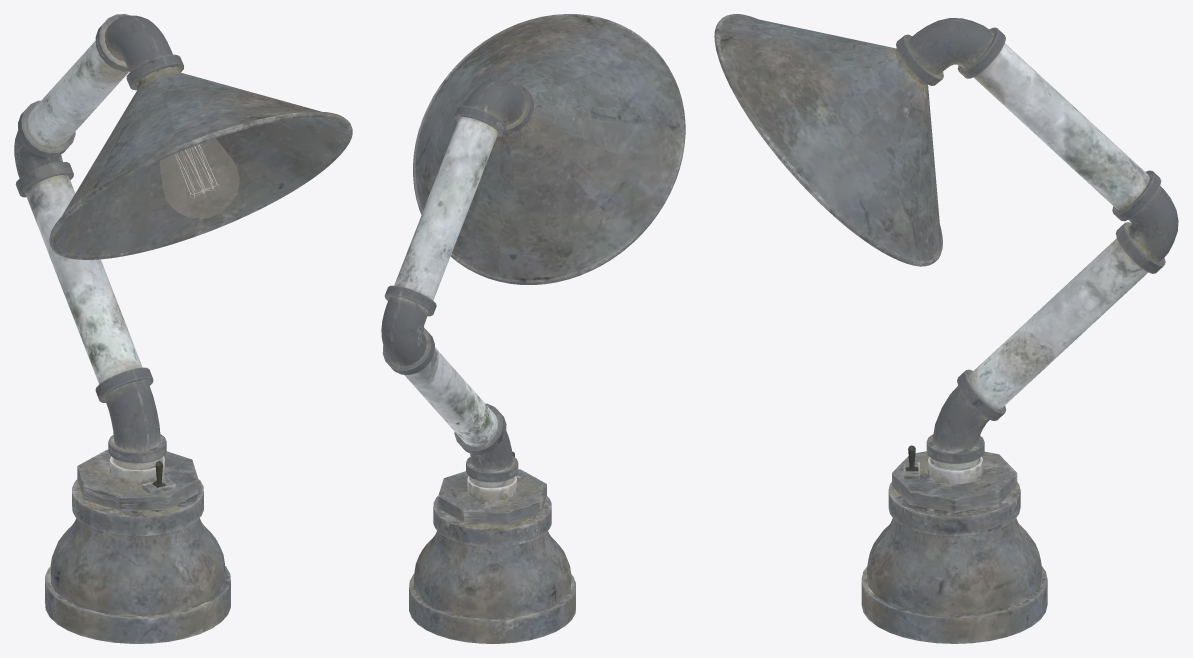
The model's file is industrial_pipe_lamp.glb.
3 renders of one model, left to right at view 1: azimuth 30°, elevation 25°; view 2: azimuth 150°, elevation 25°; view 3: azimuth 270°, elevation 25°, orthographic. The views are drawn at different scales.
Visible parts, largest first — view 1: industrial_pipe_lamp, industrial_pipe_lamp_bulb; view 2: industrial_pipe_lamp; view 3: industrial_pipe_lamp.
Part boxes in pixels (x1,y1,x2,y2): industrial_pipe_lamp: [14, 14, 352, 643]; industrial_pipe_lamp_bulb: [160, 138, 239, 218]; industrial_pipe_lamp: [381, 14, 685, 643]; industrial_pipe_lamp: [714, 14, 1178, 643].
Bounding box in the file's own units: 0.183 × 0.3641 × 0.2621.
Materials: 2 (2 with a texture image).
